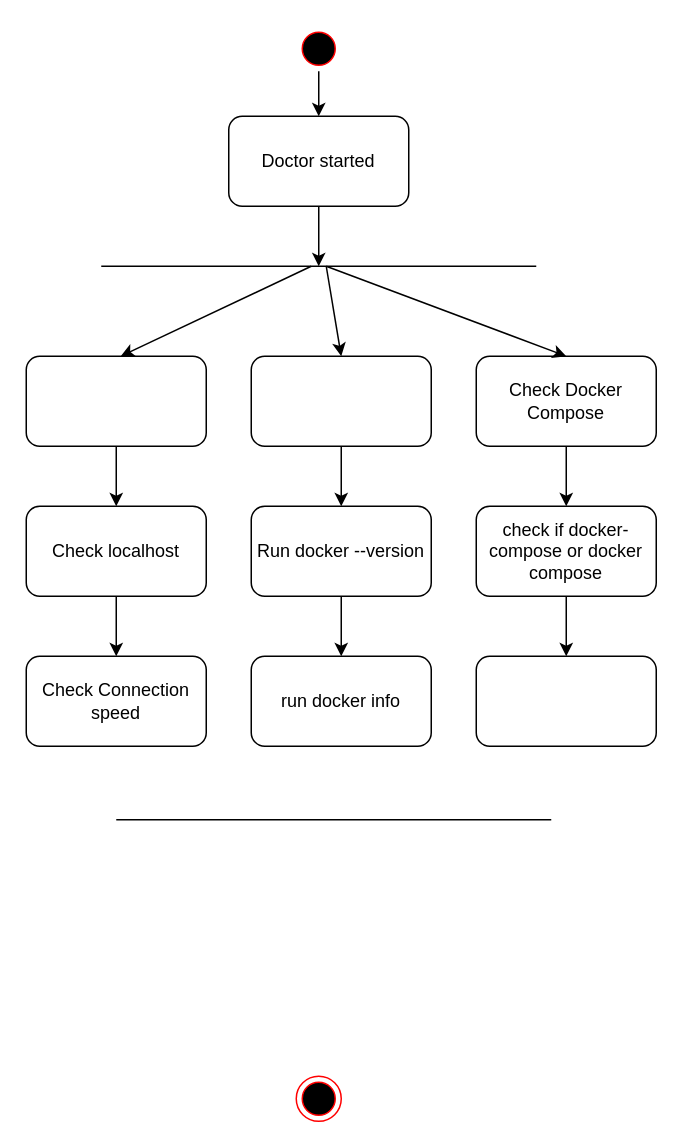
This 683x1148 diagram has some shape labels left out. Here are the shapes that lost their labels. From the top down, the centre of each, then its label:
point (115, 400): Ping Google
point (340, 400): Check Docker
point (565, 700): check version
